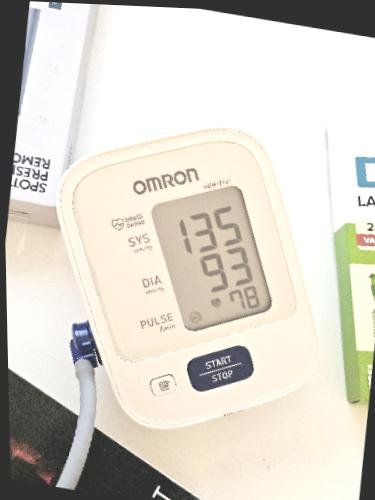bpm: (147, 177, 278, 336)
